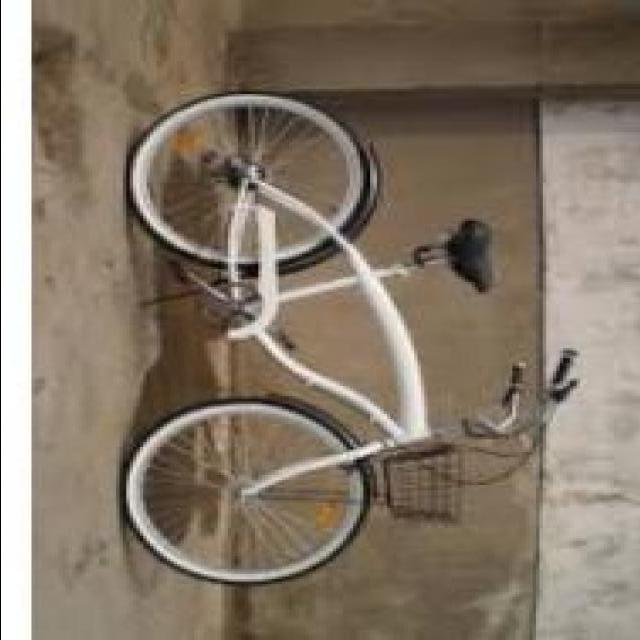bicycle: (122, 111, 590, 601)
